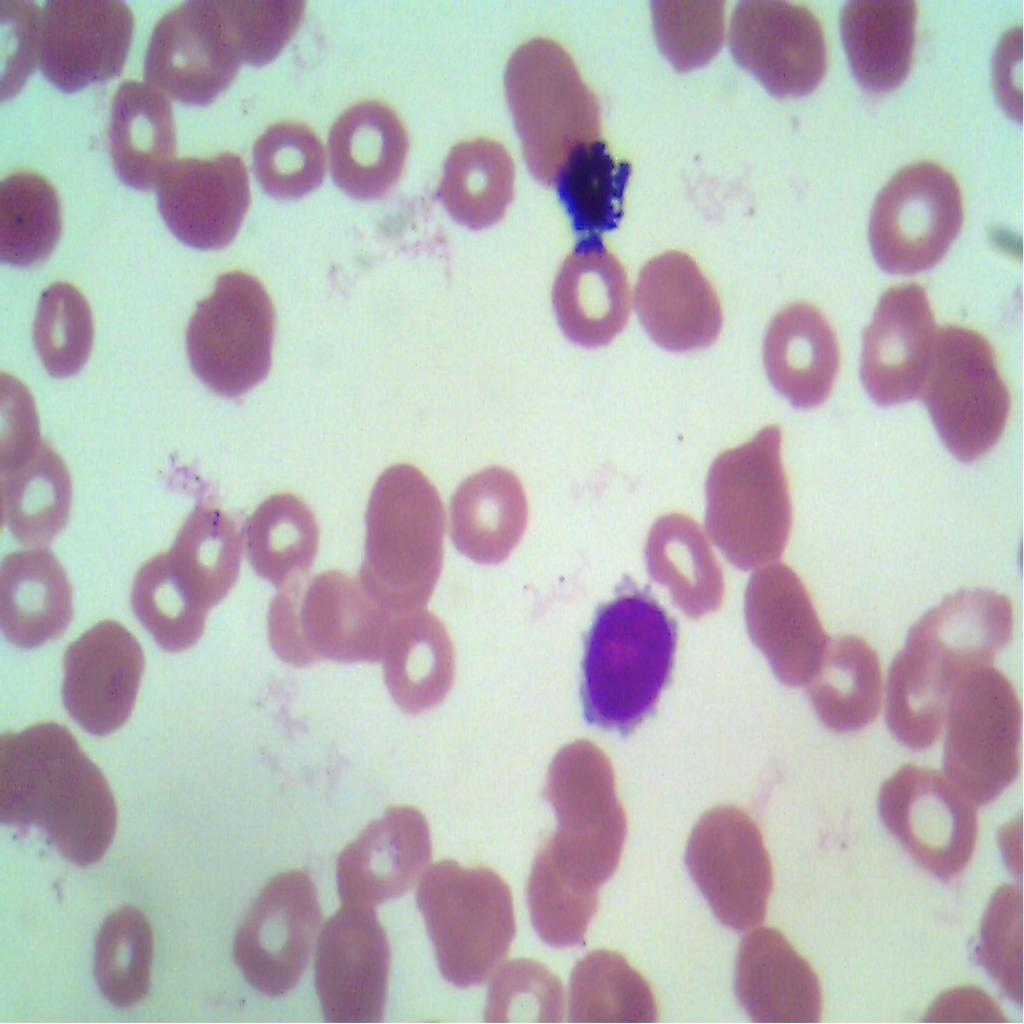Eritrosit: (170, 266, 281, 399), (694, 431, 804, 564), (738, 552, 836, 698), (681, 799, 784, 934), (862, 144, 962, 282), (918, 321, 1012, 464), (876, 758, 978, 888), (423, 847, 511, 997), (750, 292, 846, 428), (936, 664, 1023, 808), (50, 612, 144, 742), (431, 118, 523, 248), (224, 861, 313, 994), (634, 244, 728, 365), (498, 45, 596, 161), (726, 0, 832, 106), (161, 148, 263, 258), (438, 458, 530, 577), (830, 0, 933, 106), (144, 2, 241, 114), (98, 81, 192, 195), (338, 794, 424, 915), (854, 285, 940, 405), (363, 452, 442, 582), (0, 144, 74, 282), (381, 604, 470, 718), (0, 438, 82, 561), (355, 520, 439, 639), (128, 542, 216, 655), (734, 915, 826, 1023), (86, 894, 168, 1015), (644, 506, 730, 620), (332, 89, 414, 208), (33, 0, 133, 97), (0, 548, 81, 664), (554, 239, 635, 354), (244, 98, 329, 207), (49, 754, 128, 871), (168, 492, 250, 600), (316, 908, 390, 1023), (244, 474, 321, 584), (884, 638, 958, 752), (808, 627, 886, 734), (302, 564, 386, 662), (918, 591, 1016, 674), (526, 848, 598, 957), (0, 722, 79, 821), (549, 794, 628, 892), (570, 945, 660, 1023), (32, 280, 98, 381), (478, 947, 564, 1023), (546, 744, 609, 826)
Limfoblast: (578, 574, 683, 754)
